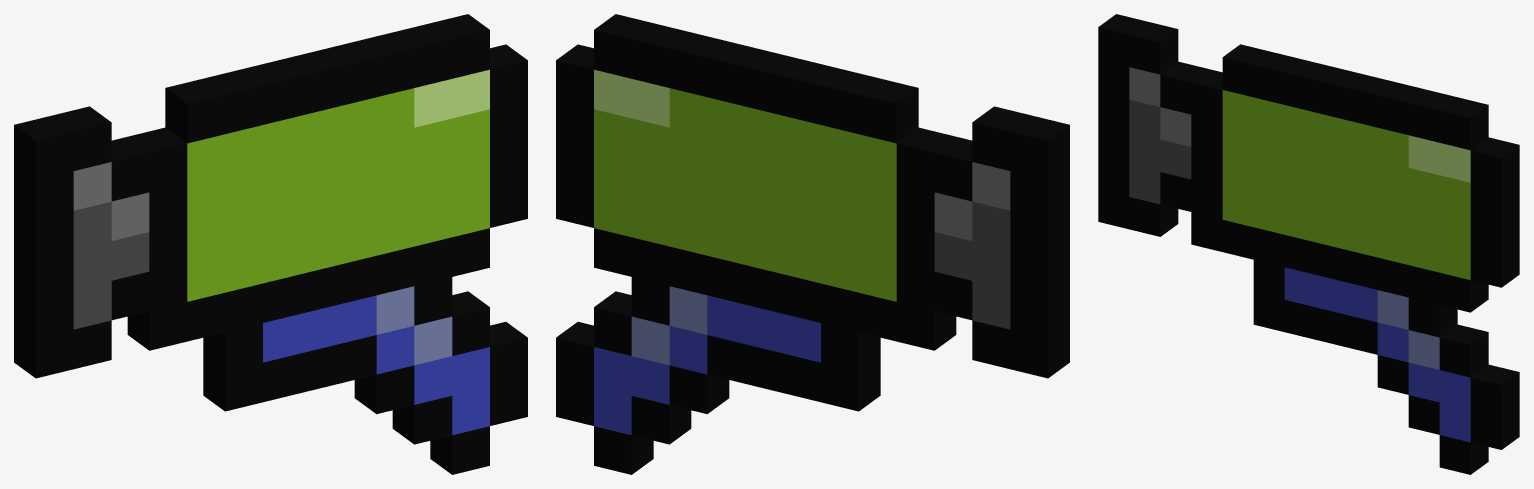
The model's file is Lime Paintball Gun.glb.
3 views of the same model, side by side, from view 1: azimuth 30°, elevation 25°; view 2: azimuth 150°, elevation 25°; view 3: azimuth 330°, elevation 25° (orthographic). The views are drawn at different scales.
Visible parts, largest first — view 1: generated(Clone); view 2: generated(Clone); view 3: generated(Clone).
Part boxes in pixels (box(x1,y1,x2,y2)): generated(Clone): box(14, 14, 527, 474); generated(Clone): box(556, 14, 1069, 474); generated(Clone): box(1098, 14, 1519, 474).
Size of the model in its own units: 13 by 11 by 1.
1 material, 1 textured.
